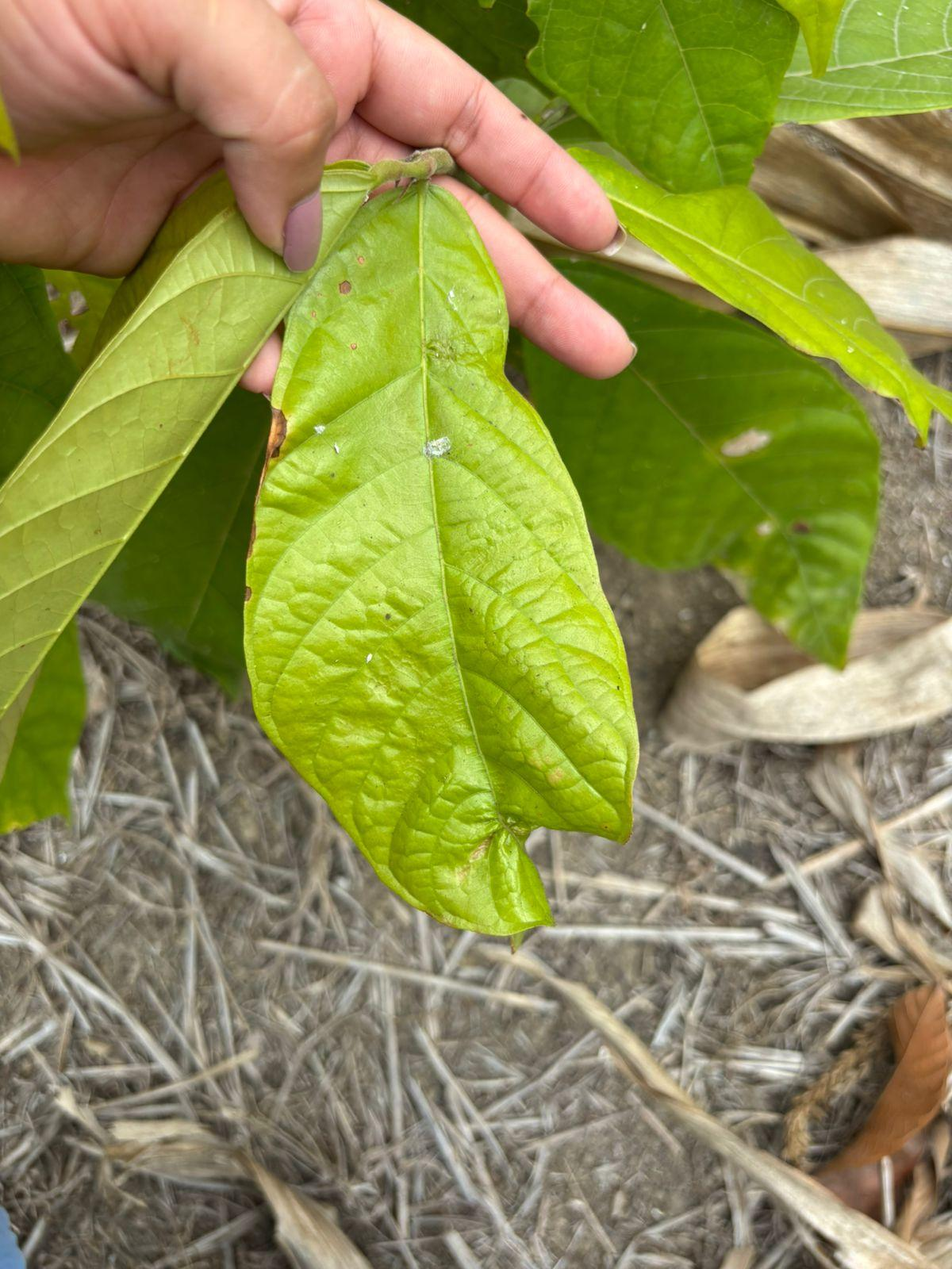deficiencia_nitrogeno: (244, 182, 637, 935)
